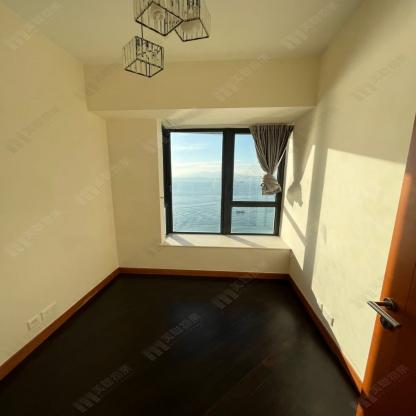Door: (353, 110, 416, 416)
Windowsill: (158, 119, 295, 250)
